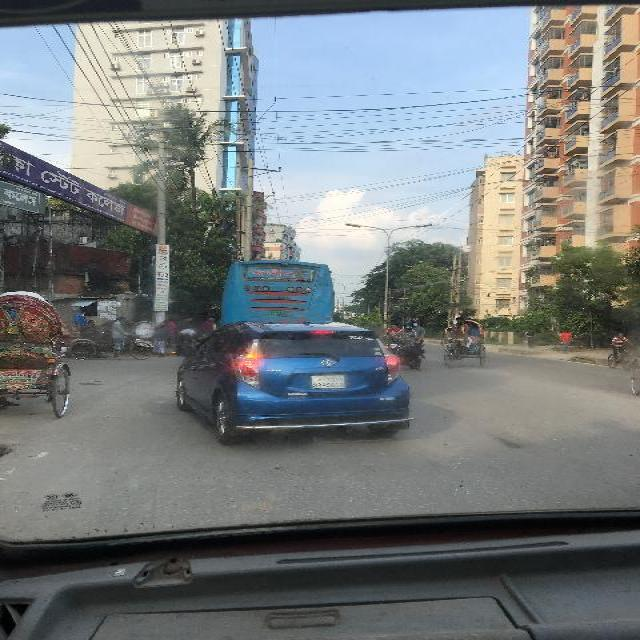bike: (388, 322, 430, 352), (605, 333, 634, 372)
vehicle: (174, 323, 385, 446), (3, 290, 75, 418), (222, 261, 335, 322), (67, 314, 154, 363), (445, 314, 488, 373)
